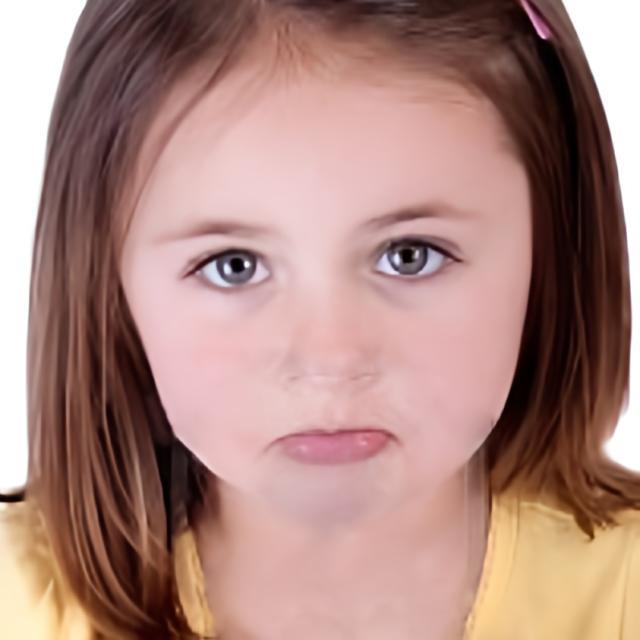neutral: (120, 22, 530, 530)
